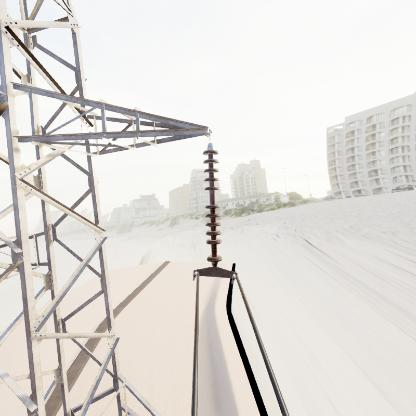insulator: (199, 145, 224, 267)
